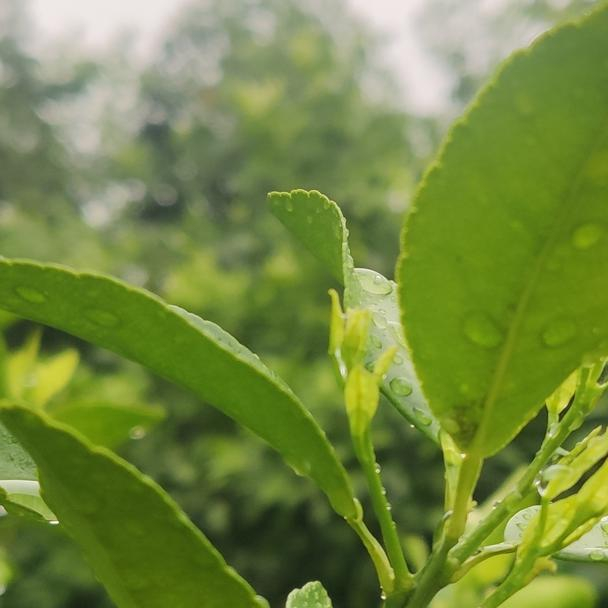shoot: (323, 308, 406, 453)
